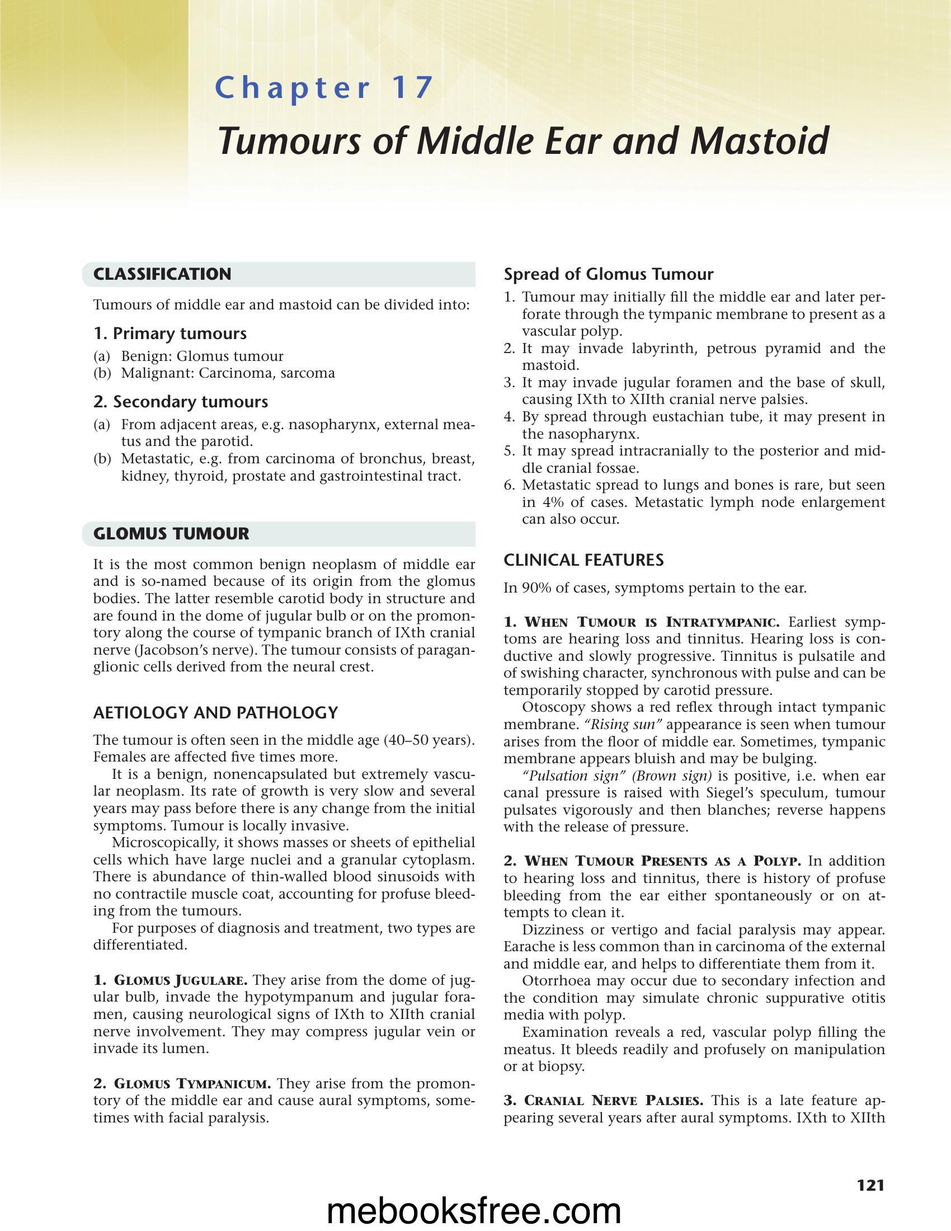chapter-heading: (217, 123, 833, 159)
list: (503, 290, 887, 526), (92, 325, 474, 486), (92, 972, 477, 1127), (92, 416, 475, 485), (92, 348, 337, 382)
section-heading: (93, 526, 250, 541), (93, 266, 232, 281)
sub-section-heading: (503, 266, 715, 286), (93, 705, 339, 719), (503, 552, 665, 567)
text: (500, 611, 886, 1129), (92, 733, 476, 952), (92, 557, 476, 676), (92, 297, 470, 311), (503, 581, 808, 597)
